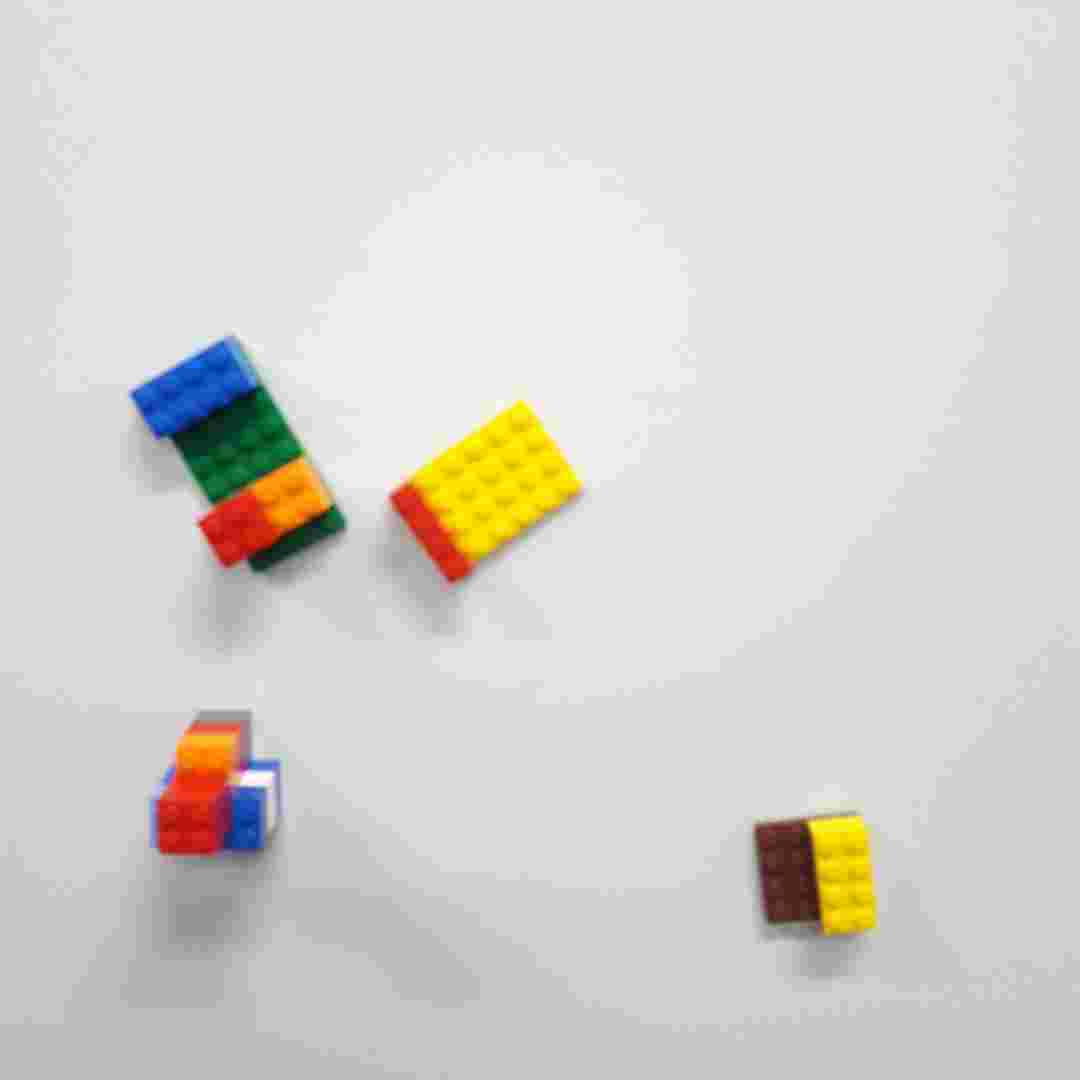LEGO: (127, 332, 349, 577), (387, 393, 592, 586), (145, 708, 290, 859), (749, 805, 885, 942)
